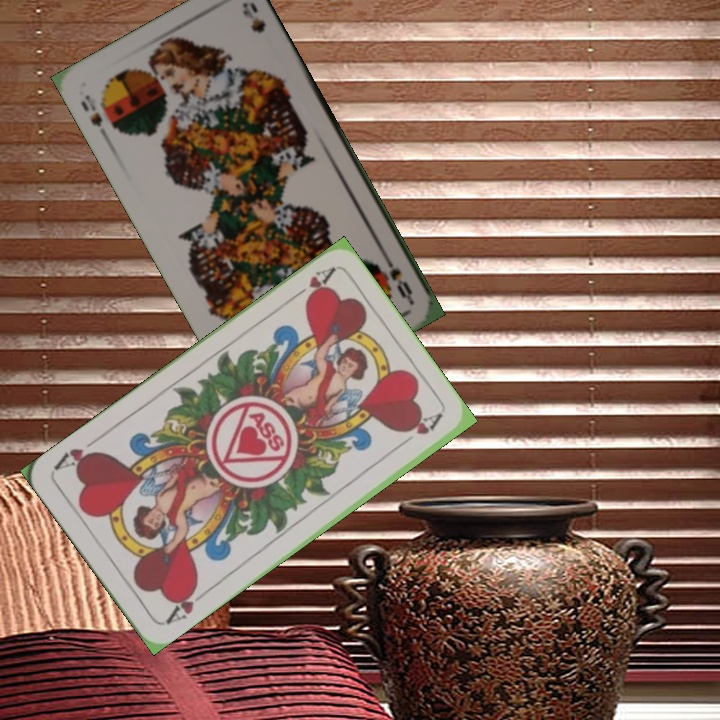HA: (161, 580, 211, 627), (285, 263, 337, 306)
SO: (379, 250, 415, 304), (76, 90, 111, 142)
